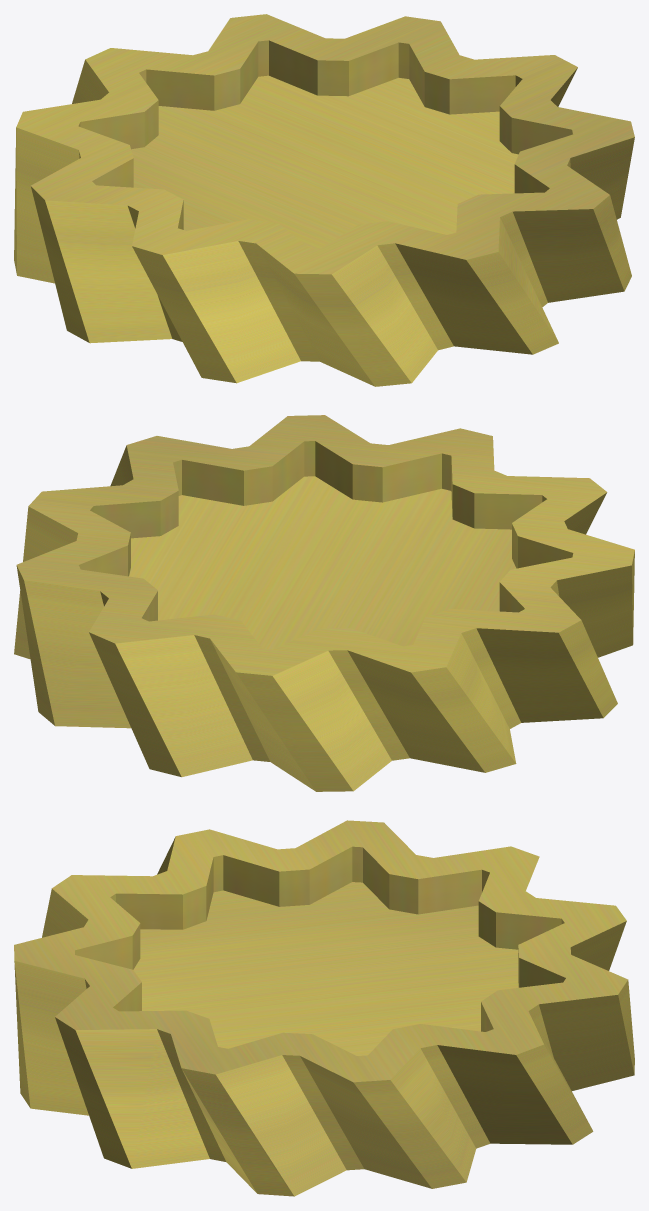
File: CogFacetSpiral011.fbx
The picture shows the model from 3 angles, top to bottom: view 1: azimuth 30°, elevation 25°; view 2: azimuth 150°, elevation 25°; view 3: azimuth 270°, elevation 25°; orthographic projection.
Parts seen in each view (by area): view 1: CogFacetSpiral011; view 2: CogFacetSpiral011; view 3: CogFacetSpiral011.
Part boxes in pixels (x1,y1,x2,y2): CogFacetSpiral011: [14, 14, 634, 386]; CogFacetSpiral011: [14, 415, 634, 791]; CogFacetSpiral011: [14, 820, 634, 1196].
Bounding box in the file's own units: 107 × 21.75 × 107.
